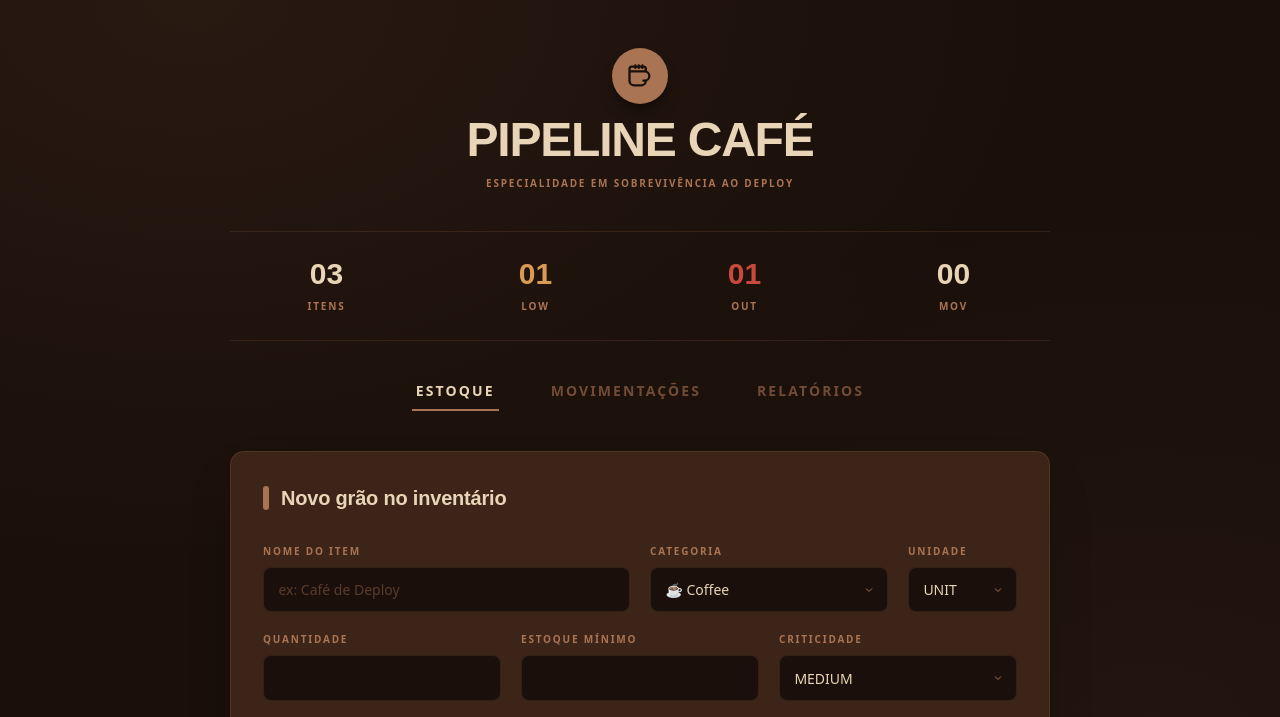
PipelineCafePage › movimentações › mostra estado vazio de movimentações
The image size is (1280, 717).
Step 1. Click the button "Movimentações" → [626, 396], box [547,381,705,411]
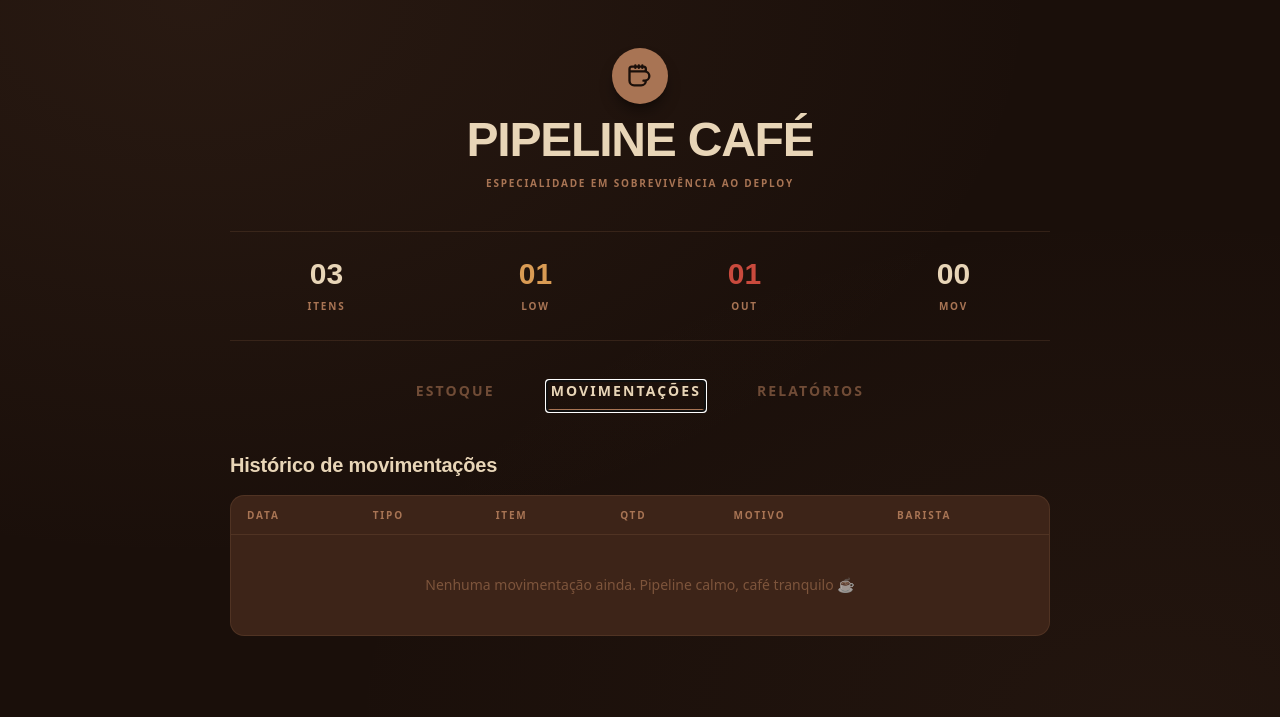
Expected: the text "Nenhuma movimentação ainda. Pipeline calmo, café tranquilo ☕" is shown, [231,535,1049,635]
